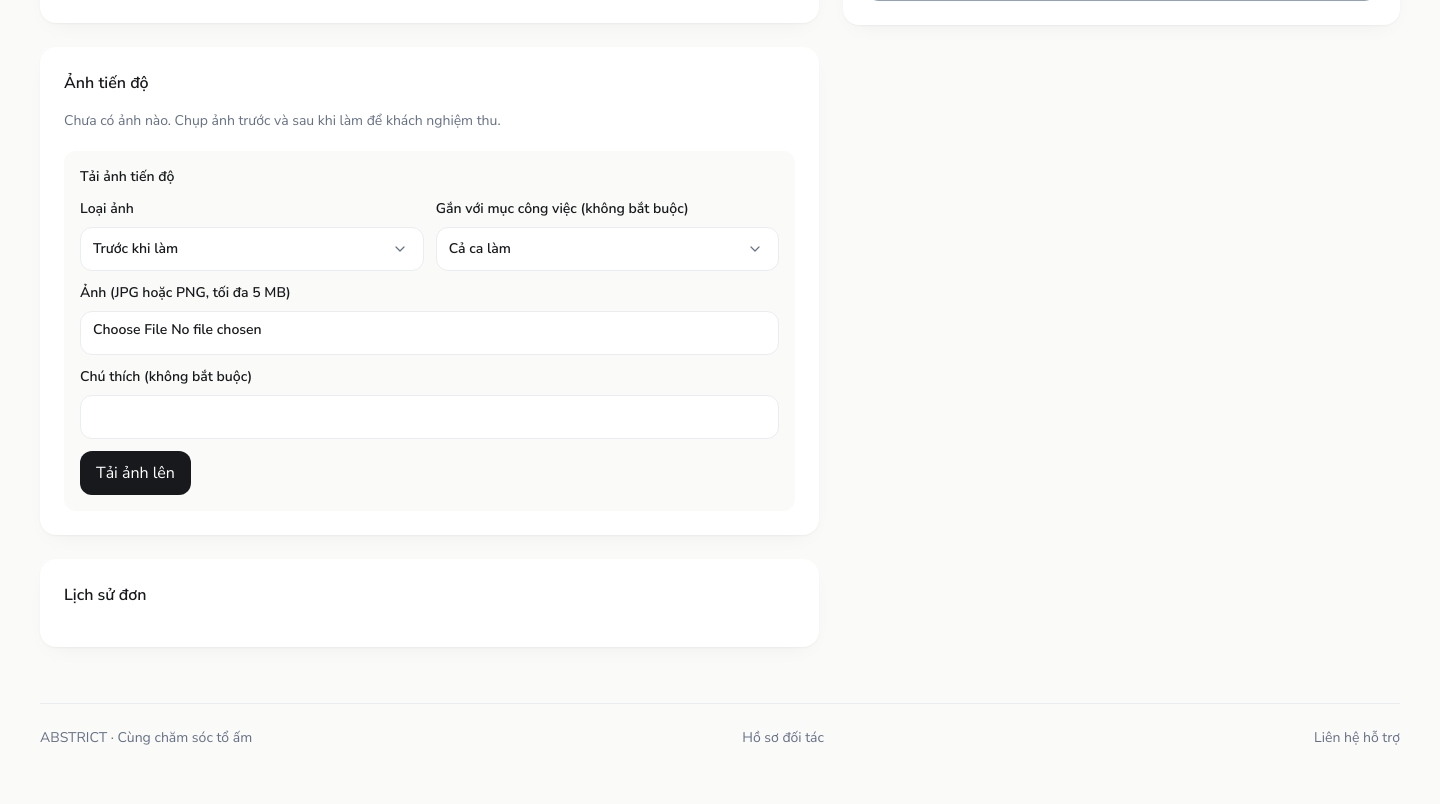
Test case: freelancer working the shift › blocks a missing, non-image or oversized file before calling the server
The width and height of the screenshot is (1440, 804).
Later steps or results of the test are not shown.
(page scrolled)
Check: the text "Tải ảnh tiến độ" is shown, box 80,167 -> 174,186
Click the button "Tải ảnh lên" at (136, 473), box 80,451 -> 191,495
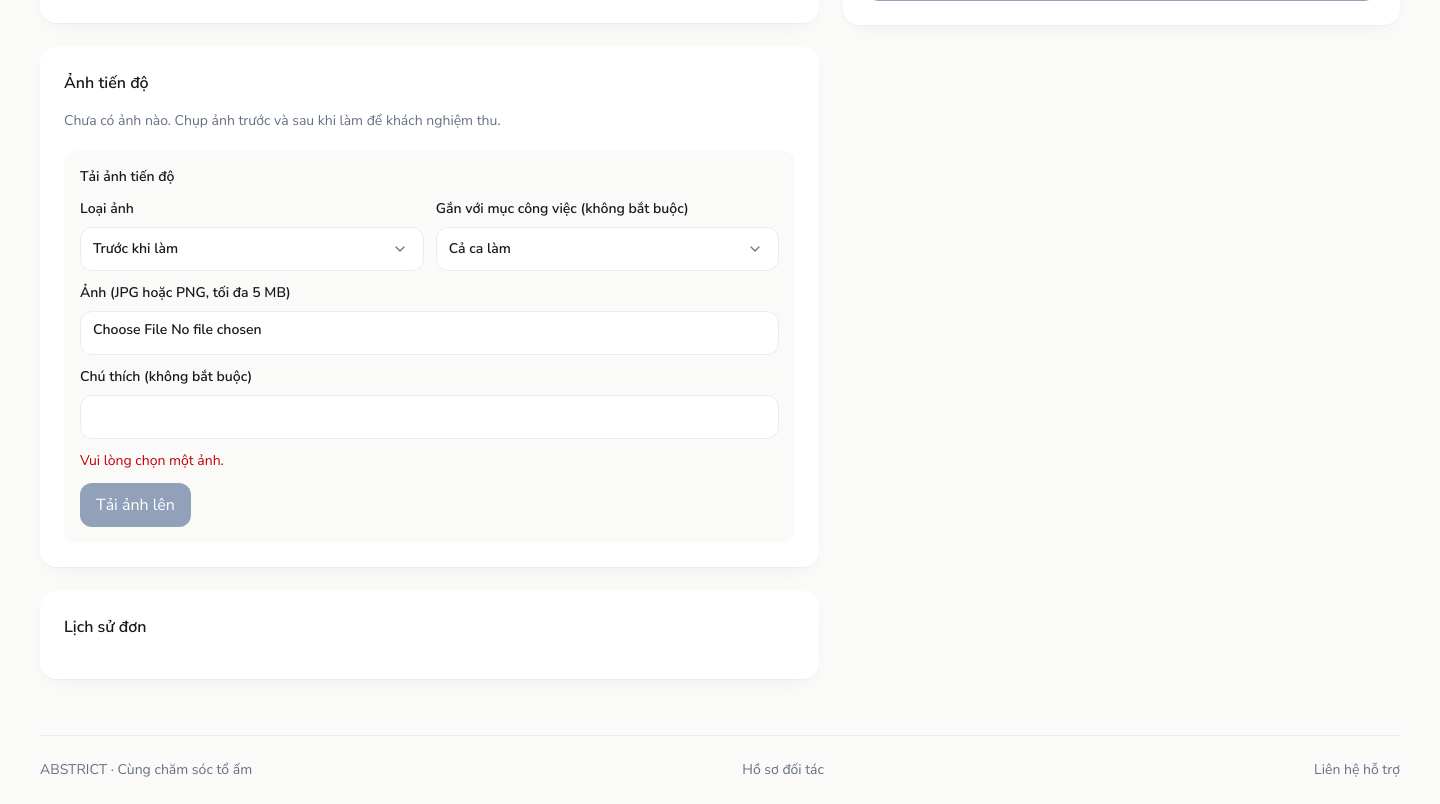
Check: the message reads "Vui lòng chọn một ảnh.", box 80,451 -> 224,470
